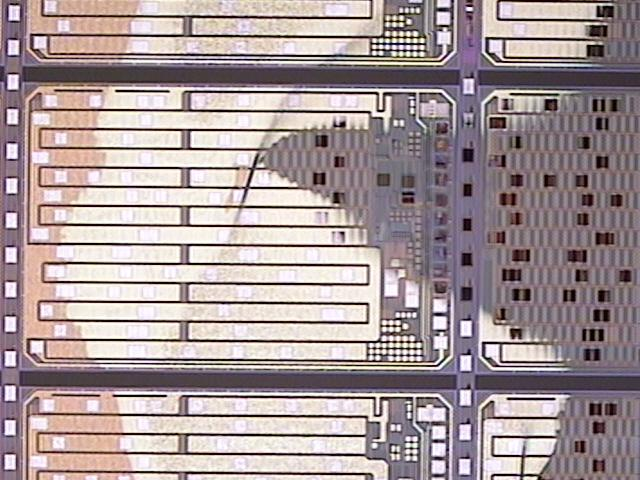COATING BAD: (57, 2, 614, 480)
